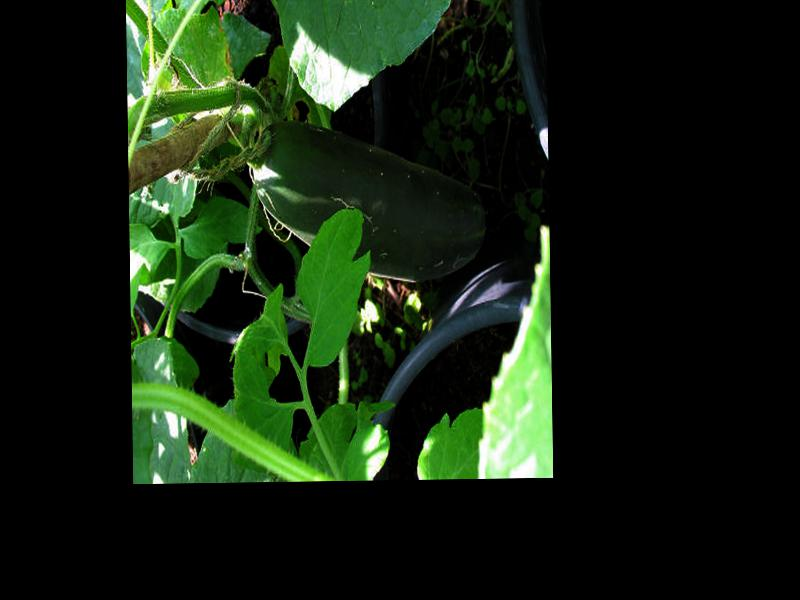Cucumber: (250, 117, 486, 283)
